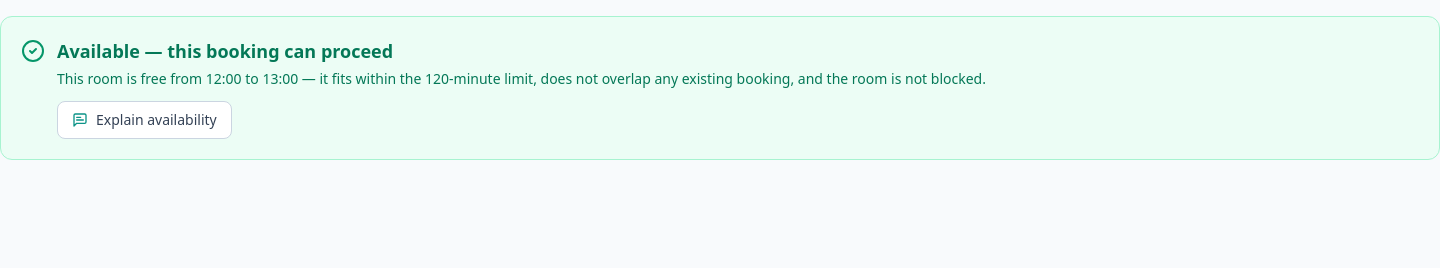
Test: AvailabilityResult — stale explanation reset › clears a previously shown explanation when the result prop changes
The width and height of the screenshot is (1440, 268).
Later steps or results of the test are not shown.
Generate an explanation for the available verdict.
Click the button "Explain availability".
click(144, 120)  # box [57,101,232,139]
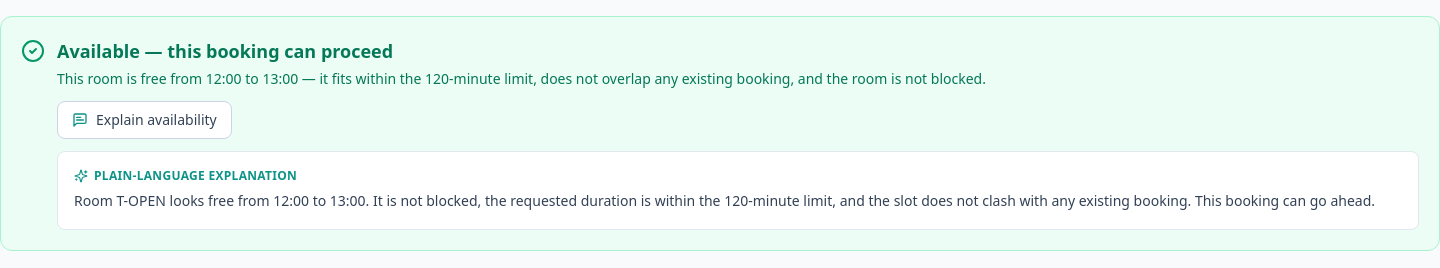
Expected: the text "Plain-language explanation" is shown, [74,167,297,184]
Expected: the text "can go ahead" is shown, [74,191,1375,210]
